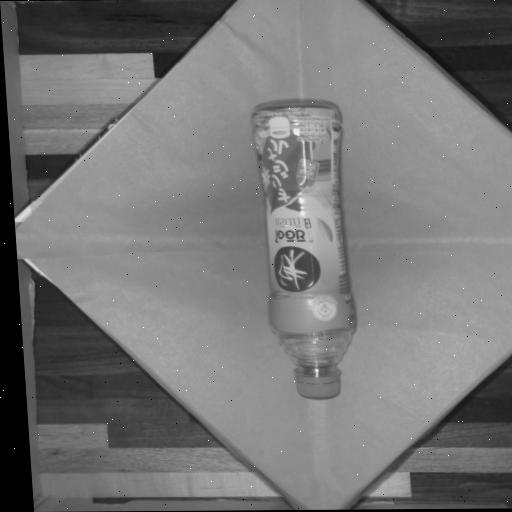bottle: (234, 89, 379, 411)
